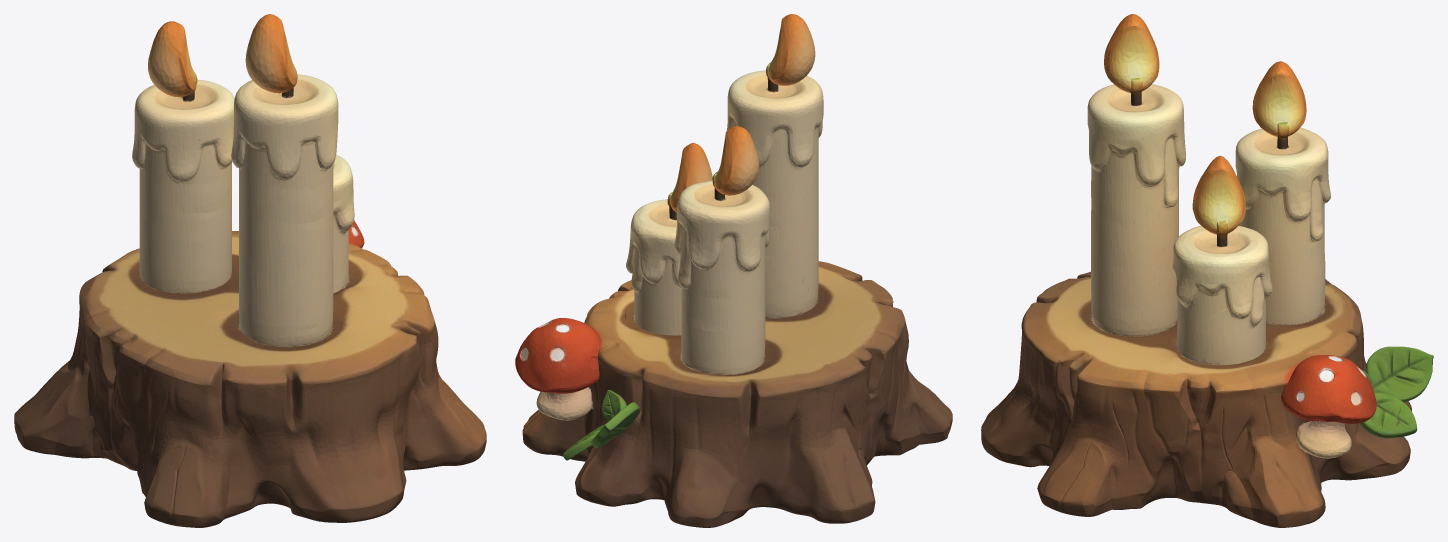
File: candle_9.glb
3 renders of one model, left to right at view 1: azimuth 30°, elevation 25°; view 2: azimuth 150°, elevation 25°; view 3: azimuth 270°, elevation 25°, orthographic. The views are drawn at different scales.
Parts seen in each view (by area): view 1: tripo_node_0c18b73f-7fd8-446b-9af0-297b14f888e6; view 2: tripo_node_0c18b73f-7fd8-446b-9af0-297b14f888e6; view 3: tripo_node_0c18b73f-7fd8-446b-9af0-297b14f888e6.
Part boxes in pixels (x1,y1,x2,y2): tripo_node_0c18b73f-7fd8-446b-9af0-297b14f888e6: [14, 14, 486, 527]; tripo_node_0c18b73f-7fd8-446b-9af0-297b14f888e6: [515, 14, 952, 527]; tripo_node_0c18b73f-7fd8-446b-9af0-297b14f888e6: [981, 14, 1433, 527].
Size of the model in its own units: 0.8578 by 0.9794 by 0.9575.
Materials: 1 (1 with a texture image).
